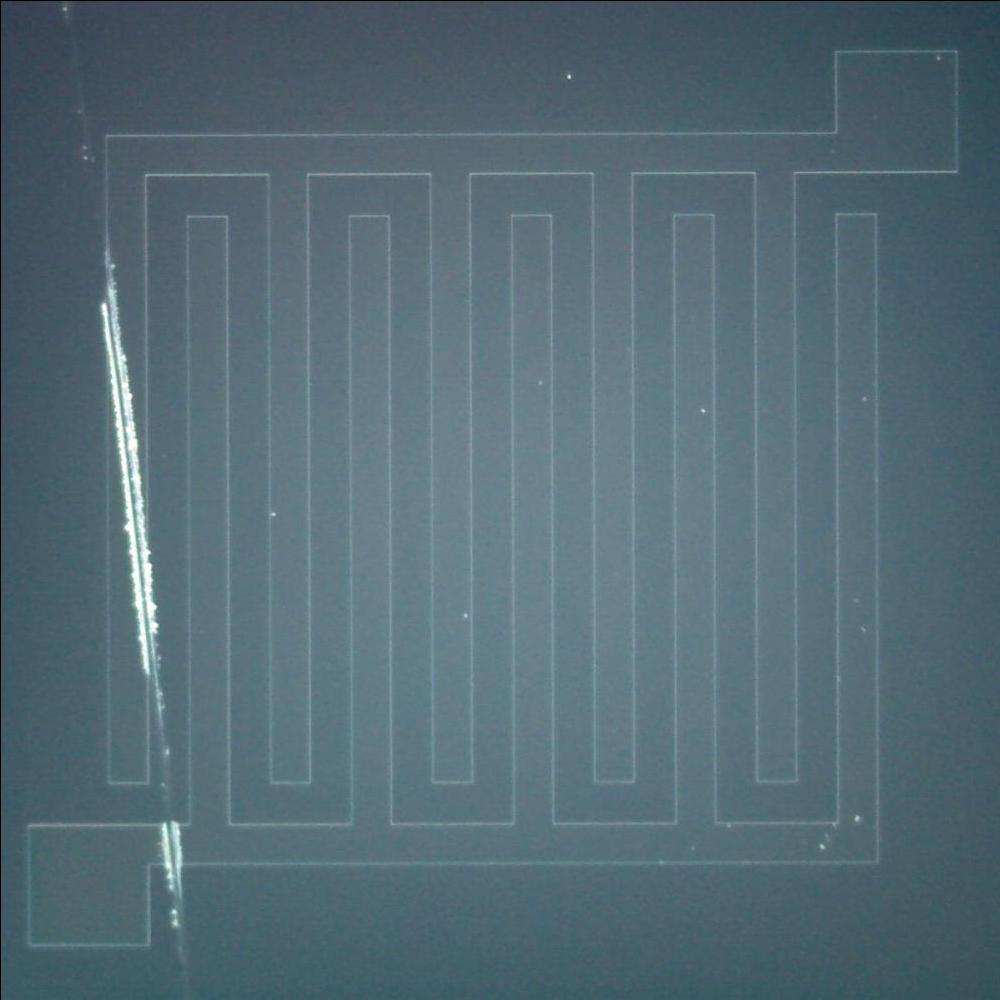dot: (844, 800, 871, 833), (806, 834, 832, 857), (692, 398, 714, 421), (262, 504, 280, 524), (560, 66, 577, 86)
scratch: (97, 261, 165, 676), (150, 812, 192, 926)
